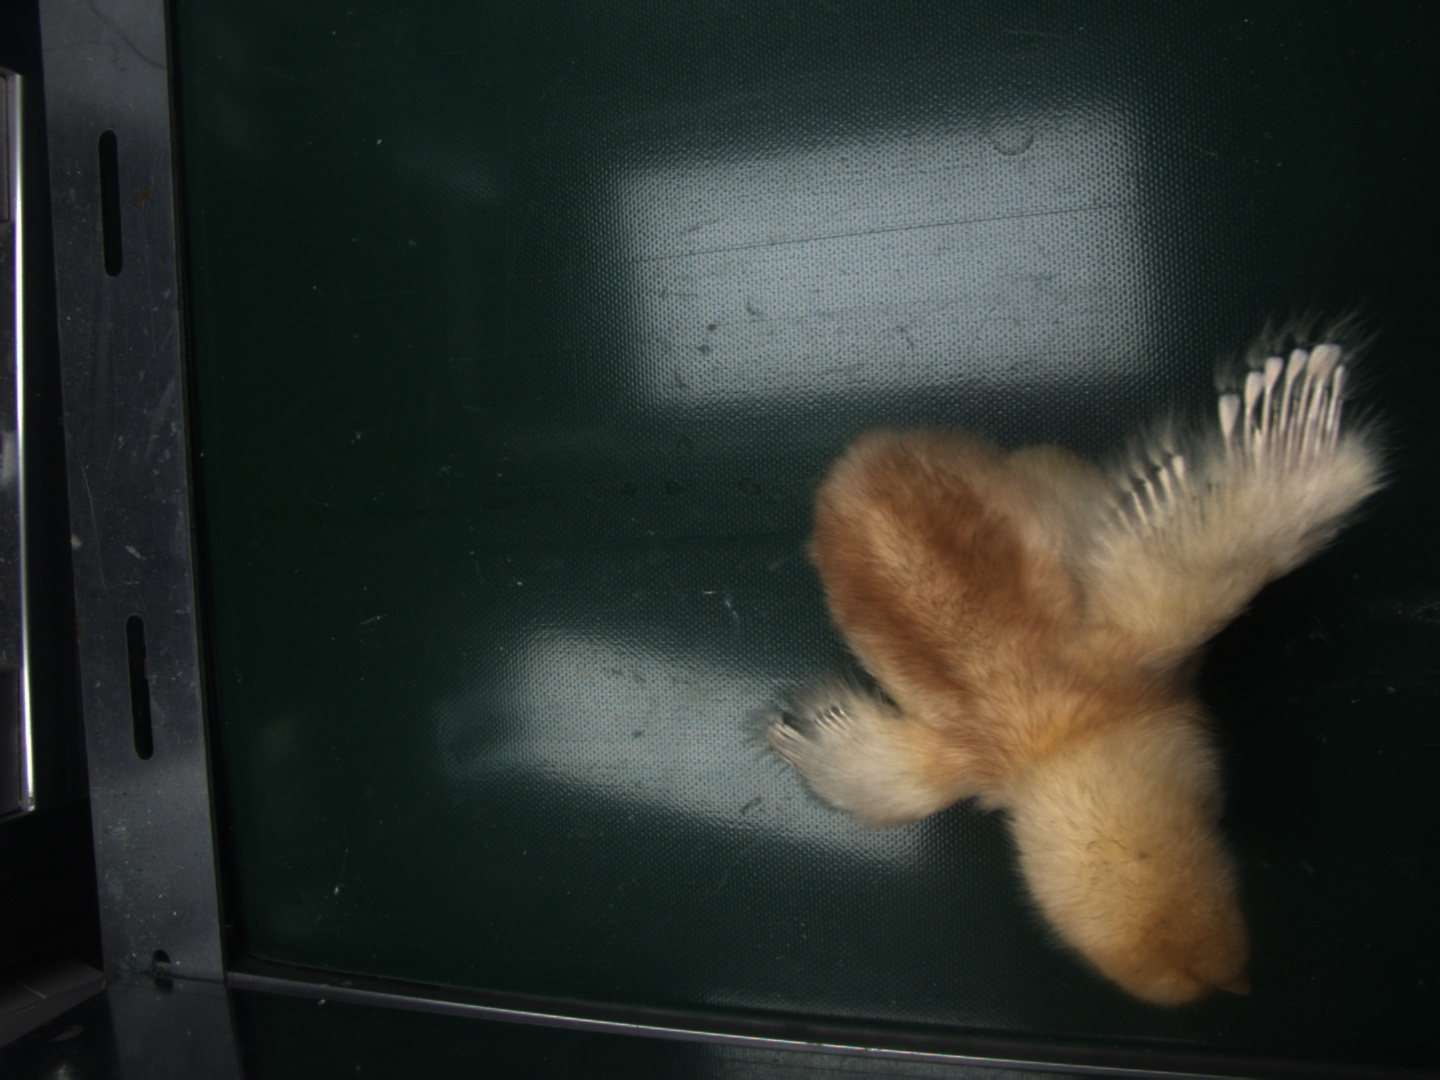female: (1231, 344, 1348, 452)
